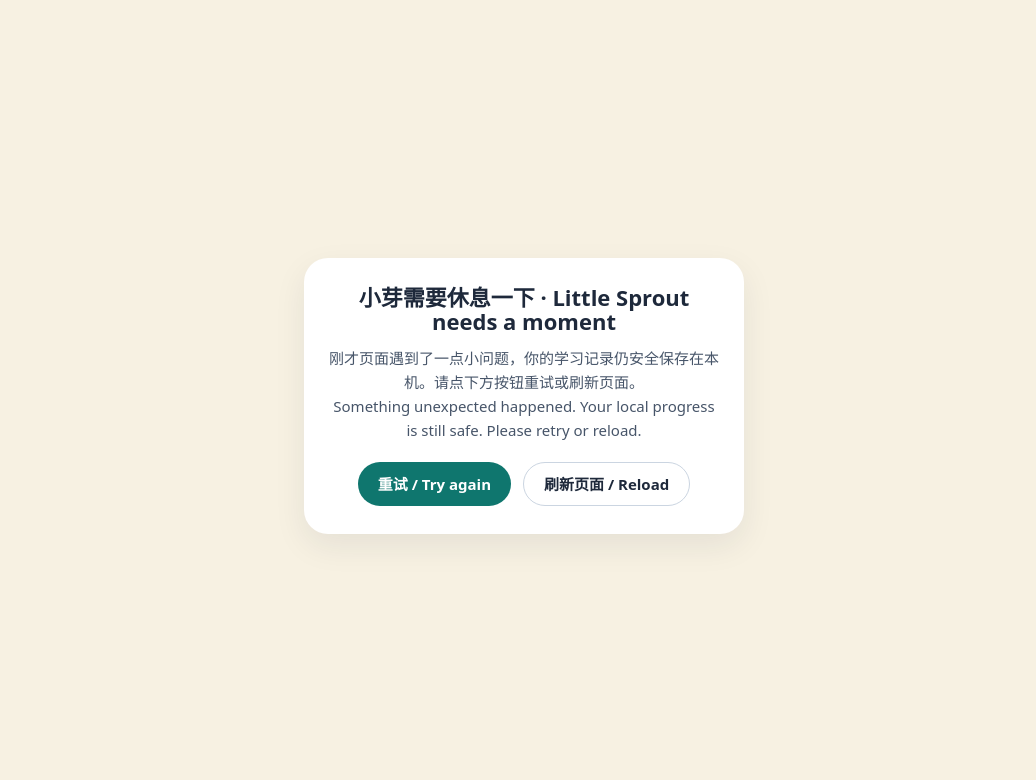
Test: ErrorBoundary › renders a bilingual recovery screen when a child component throws and recovers on retry
This screenshot has width=1036, height=780.
Expected: the heading "小芽需要休息一下 · Little Sprout needs a moment" is shown, [359, 282, 689, 336]
Click the button "重试 / Try again": (434, 484) [358, 462, 511, 506]
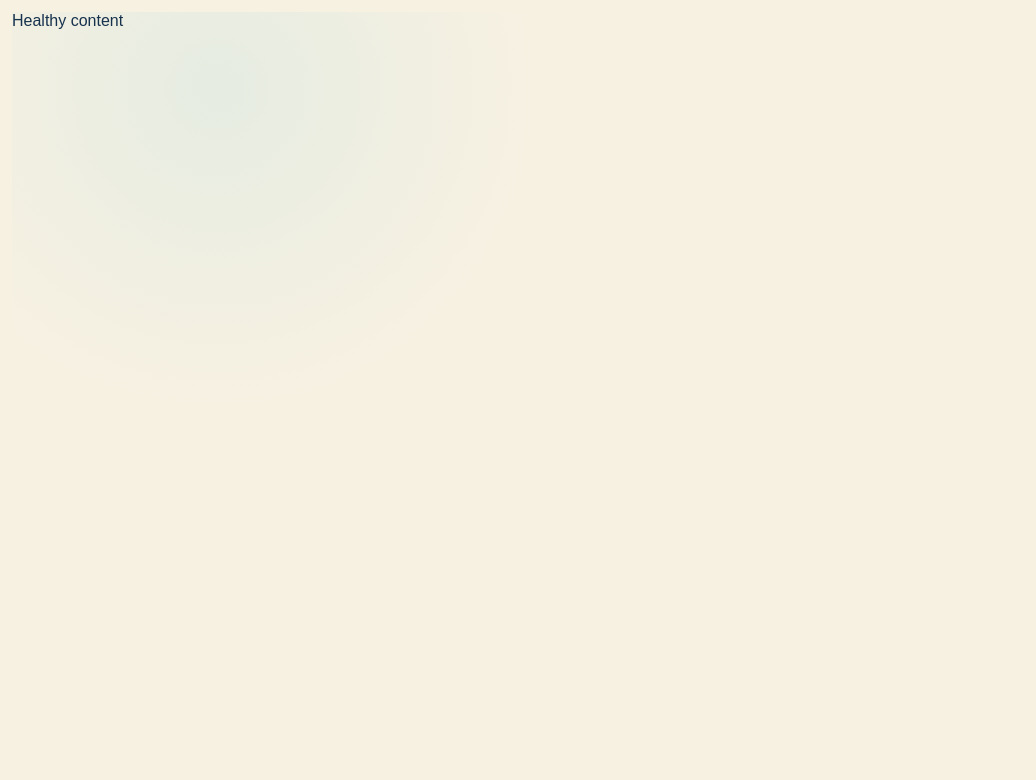
Now the text "Healthy content" is shown, box [12, 12, 123, 29]
